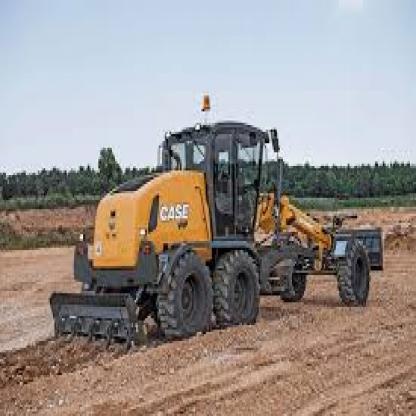bull_dozer/loader/grader: (41, 109, 393, 348)
